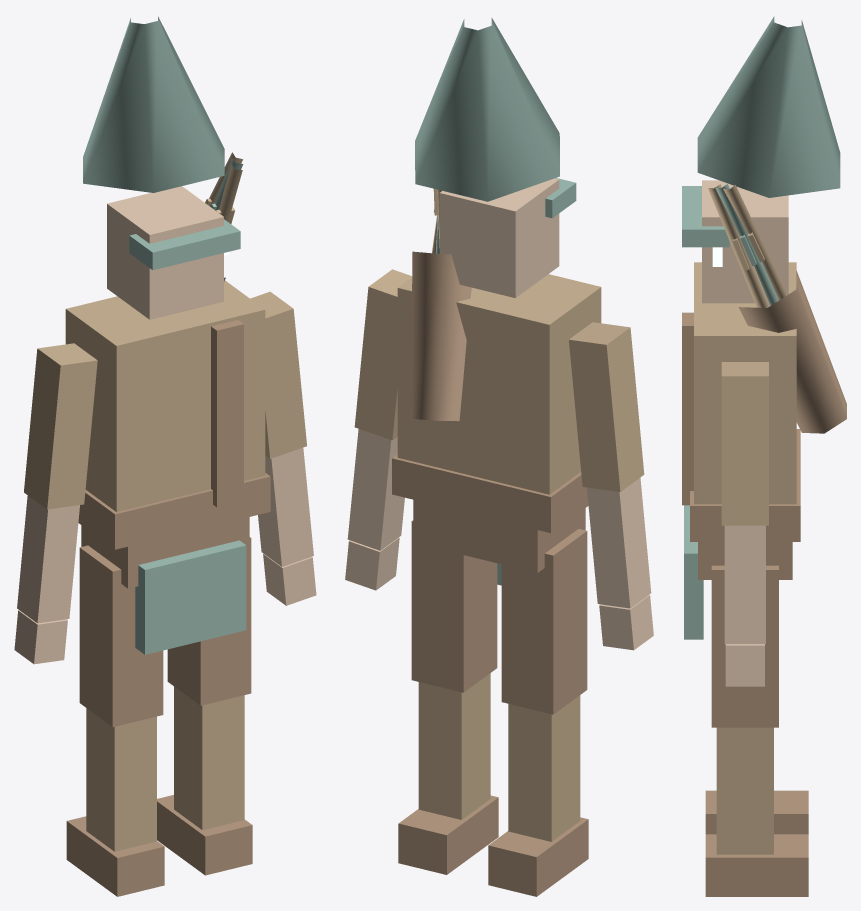
File: hunter.glb
The picture shows the model from 3 angles, left to right: view 1: azimuth 30°, elevation 25°; view 2: azimuth 150°, elevation 25°; view 3: azimuth 270°, elevation 25°; orthographic projection. The views are drawn at different scales.
Visible parts, largest first — view 1: chest, hood, legL_thigh, skull, skirt, armL_upper, legR_shin, legL_shin, belt, armL_fore, strap, armR_upper (+9 smaller); view 2: chest, hood, legL_thigh, legR_thigh, skull, armL_upper, legL_shin, legR_shin, quiver, belt, pelvis, armL_fore (+7 smaller); view 3: hood, chest, armR_upper, legR_shin, quiver, legR_thigh, skull, legR_boot, armR_fore, belt, strap, legL_boot (+7 smaller).
Part boxes in pixels (box(x1,y1,x2,y2)): chest: box(65, 280, 265, 511); hood: box(83, 16, 224, 192); legL_thigh: box(79, 545, 163, 726); skull: box(107, 186, 223, 319); skirt: box(135, 540, 246, 654); armL_upper: box(24, 343, 97, 509); legR_shin: box(174, 686, 244, 830); legL_shin: box(86, 708, 156, 851); belt: box(78, 473, 270, 549); armL_fore: box(17, 495, 79, 623); strap: box(211, 320, 243, 507); armR_upper: box(250, 291, 306, 458); chest: box(397, 274, 601, 494); hood: box(415, 18, 559, 201); legL_thigh: box(501, 529, 587, 714); legR_thigh: box(411, 520, 497, 692); skull: box(439, 178, 559, 298); armL_upper: box(569, 322, 644, 491); legL_shin: box(508, 695, 580, 841); legR_shin: box(418, 673, 490, 819); quiver: box(411, 251, 471, 421); belt: box(392, 454, 588, 532); pelvis: box(413, 499, 585, 572); armL_fore: box(587, 477, 651, 608); hood: box(697, 16, 840, 197); chest: box(694, 262, 796, 504); armR_upper: box(721, 362, 768, 525); legR_shin: box(716, 727, 773, 854); quiver: box(738, 270, 846, 433); legR_thigh: box(711, 565, 778, 727); skull: box(702, 180, 788, 303); legR_boot: box(705, 834, 808, 896); armR_fore: box(724, 525, 765, 643); belt: box(690, 429, 800, 541); strap: box(682, 312, 693, 505); legL_boot: box(705, 790, 808, 834).
Size of the model in its own units: 0.8363 by 2.36 by 0.4169.
